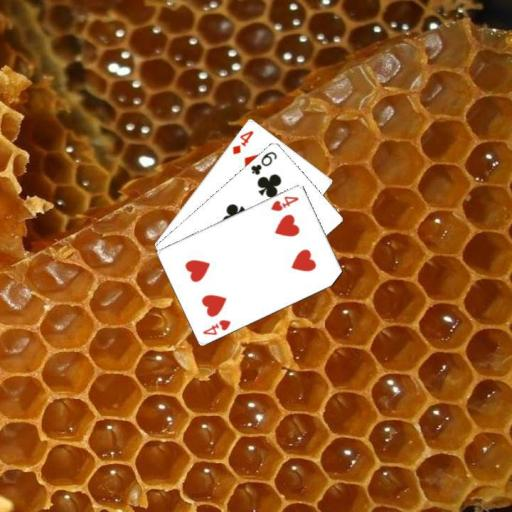4D: (229, 127, 255, 156)
4H: (268, 193, 300, 213), (200, 316, 232, 336)
6C: (247, 148, 279, 176)
